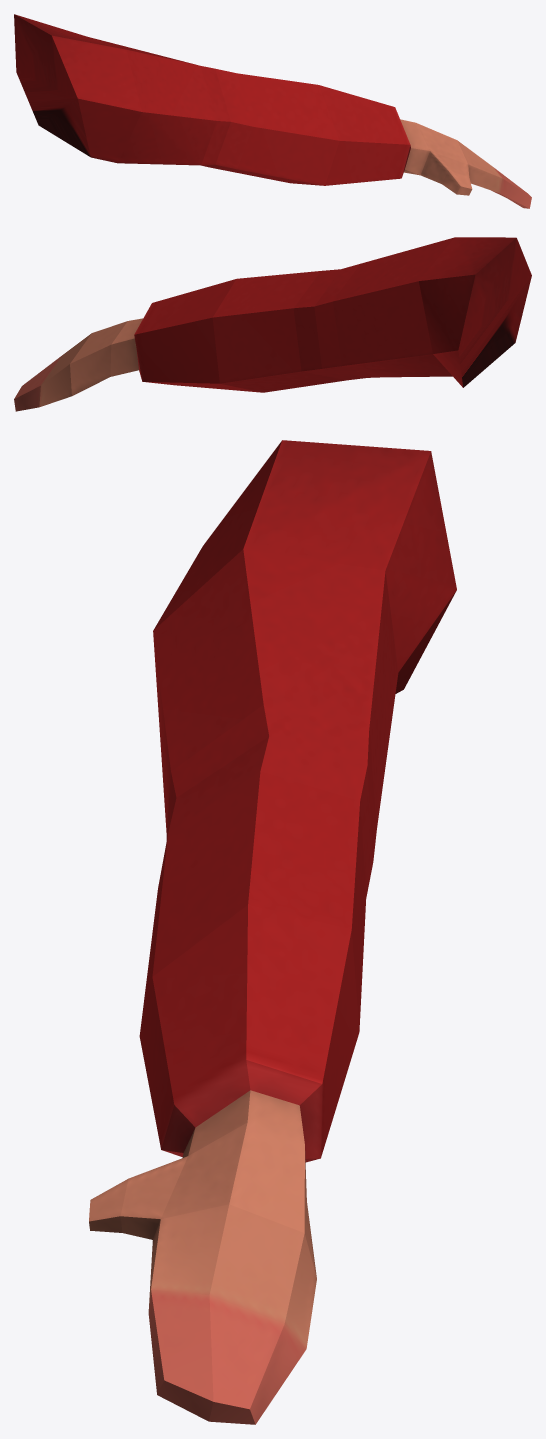
Rendered from lArm.obj.
3 renders of one model, top to bottom at view 1: azimuth 30°, elevation 25°; view 2: azimuth 150°, elevation 25°; view 3: azimuth 270°, elevation 25°, orthographic. The views are drawn at different scales.
Parts seen in each view (by area): view 1: Body_body_mesh.003; view 2: Body_body_mesh.003; view 3: Body_body_mesh.003.
Boxes of the visible parts, x1,y1,x2,y2 form: Body_body_mesh.003: [14, 14, 531, 208]; Body_body_mesh.003: [14, 237, 531, 411]; Body_body_mesh.003: [89, 440, 456, 1424].
Size of the model in its own units: 1 by 0.5659 by 0.3485.
